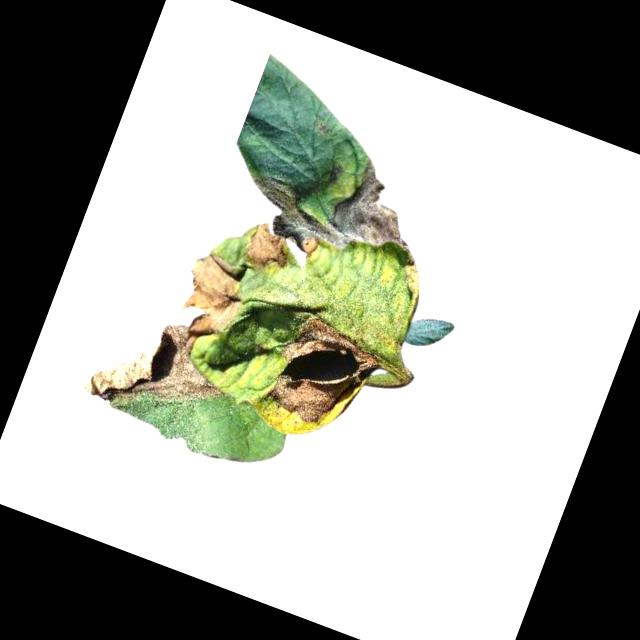Late_blight: (235, 124, 435, 286), (80, 299, 245, 444), (260, 308, 386, 438), (171, 246, 261, 342), (241, 219, 295, 276)
